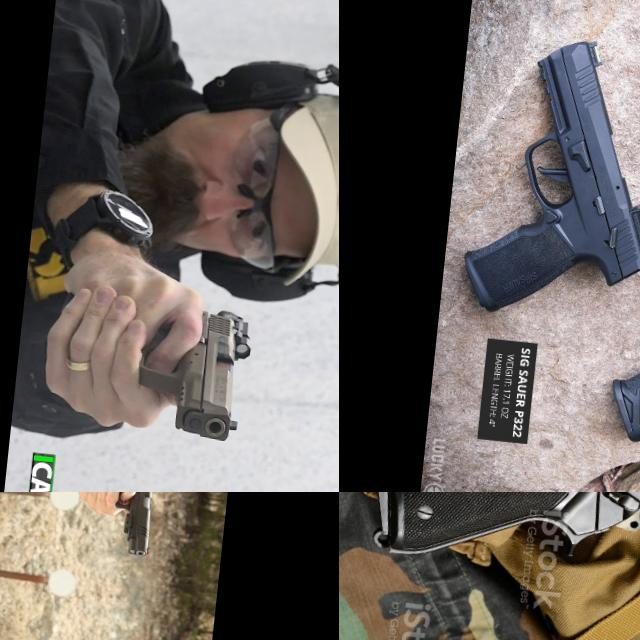handgun: (455, 28, 640, 332), (357, 492, 640, 640), (127, 300, 256, 448), (107, 492, 161, 559)
